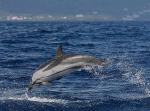fish: (27, 44, 109, 90)
